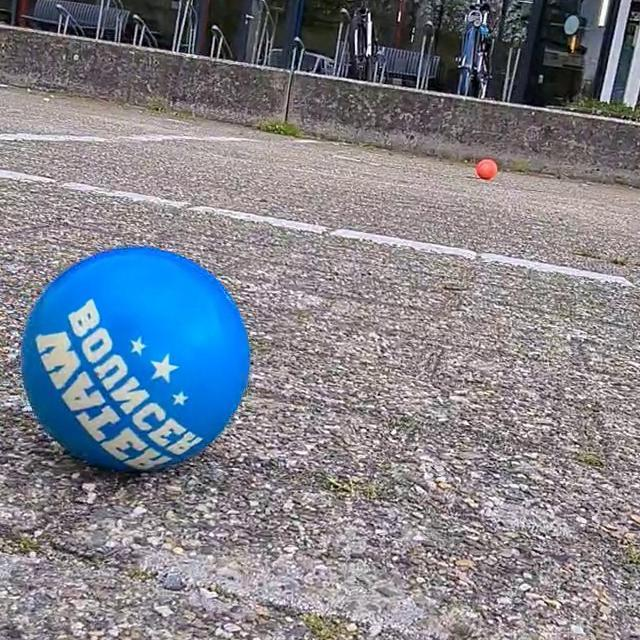ball: (475, 155, 496, 183)
